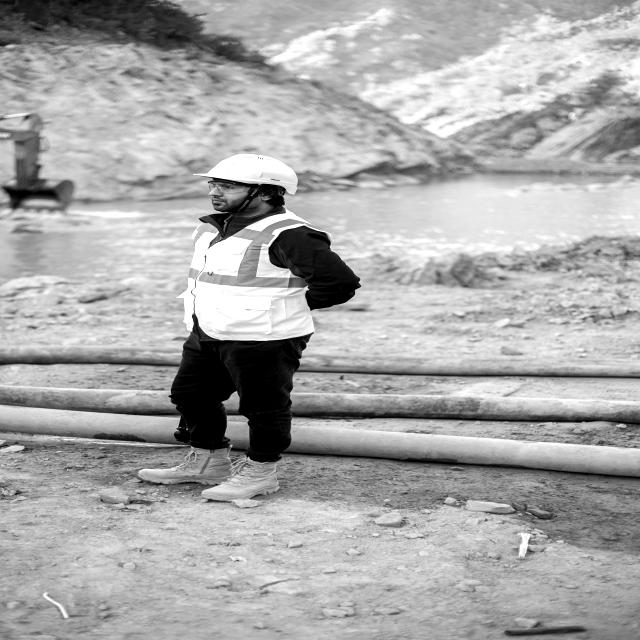No-Boots: (131, 444, 231, 489), (199, 461, 288, 504)
Vest: (184, 217, 320, 341)
